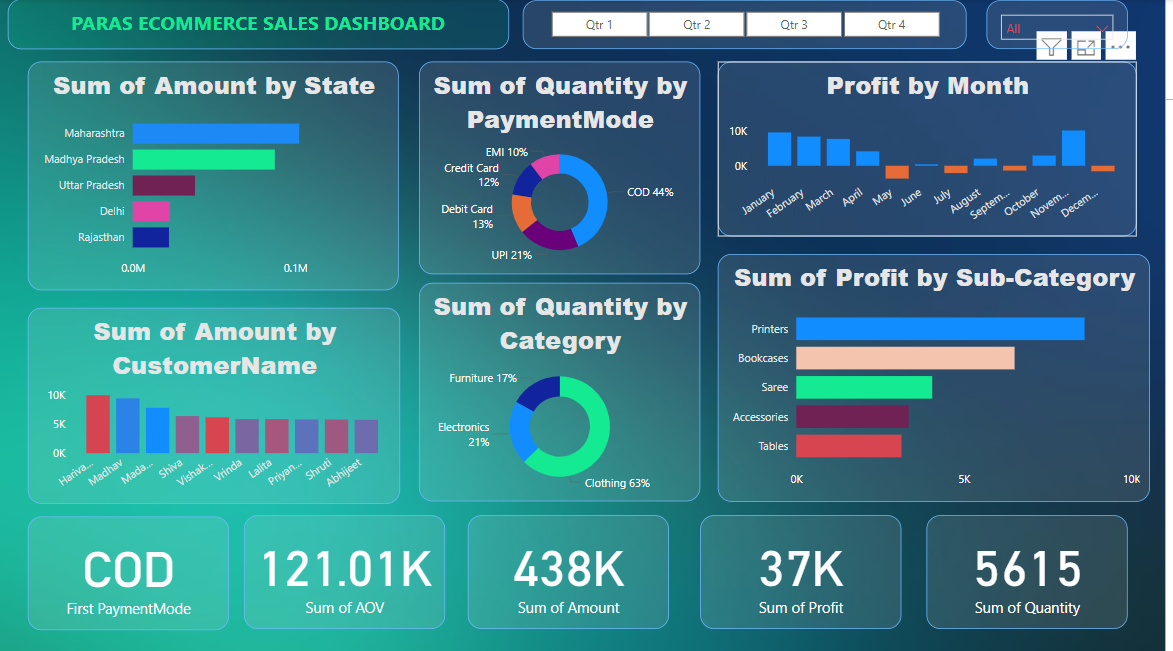

The page's visual inventory and layout, read from the dashboard file:
{"tool":"powerbi","page":{"name":"Page 1","canvas":[1280,720],"ordinal":0},"visuals":[{"type":"textbox","box":[9.6,0,550.3,54.9],"z":0},{"type":"columnChart","title":"Profit by Month","fields":{"Y":["Details.Profit"],"Category":["Orders.Order Date.Variation.Date Hierarchy.Month"]},"box":[789,68.6,459.7,192.1],"z":1000},{"type":"barChart","fields":{"Category":["Details.Sub-Category"],"Y":["Details.Profit"]},"box":[789,279.9,474.8,271.7],"z":2000},{"type":"donutChart","fields":{"Category":["Details.Category"],"Y":["Details.Quantity"]},"box":[461.1,311.5,308.7,240.1],"z":3000},{"type":"donutChart","fields":{"Category":["Details.PaymentMode"],"Y":["Details.Quantity"]},"box":[461.1,68.6,308.7,233.3],"z":4000},{"type":"card","fields":{"Values":["Details.Amount"]},"box":[514.6,566.7,220.9,124.9],"z":5000},{"type":"card","fields":{"Values":["Details.Profit"]},"box":[769.8,566.7,220.9,124.9],"z":6000},{"type":"card","fields":{"Values":["Details.Quantity"]},"box":[1018.2,566.7,220.9,124.9],"z":7000},{"type":"card","fields":{"Values":["Details.AOV"]},"box":[269,566.7,220.9,124.9],"z":8000},{"type":"barChart","fields":{"Y":["Details.Amount"],"Category":["Orders.State"]},"box":[31.6,68.6,407.5,251.1],"z":9000},{"type":"columnChart","fields":{"Category":["Orders.CustomerName"],"Y":["Details.Amount"]},"box":[31.6,338.9,408.9,215.4],"z":10000},{"type":"card","fields":{"Values":["Details.PaymentMode"]},"box":[31.6,568.1,220.9,124.9],"z":11000},{"type":"slicer","fields":{"Values":["Orders.Order Date.Variation.Date Hierarchy.Quarter"]},"box":[575,1.4,487.1,53.5],"z":12000},{"type":"slicer","fields":{"Values":["Orders.State"]},"box":[1084.1,1.4,155.1,53.5],"z":13000}]}

Visuals, with their boxes in screenshot pixels (x1, y1, x2, y2), scaled from the page's 1280x720 canvas onto the 1173x651 screenshot:
textbox: [9,0,513,50]
"Profit by Month" columnChart: [723,62,1144,236]
barChart - Details.Sub-Category x Details.Profit: [723,253,1158,499]
donutChart - Details.Category x Details.Quantity: [423,282,705,499]
donutChart - Details.PaymentMode x Details.Quantity: [423,62,705,273]
card - Details.Amount: [472,512,674,625]
card - Details.Profit: [705,512,908,625]
card - Details.Quantity: [933,512,1136,625]
card - Details.AOV: [247,512,449,625]
barChart - Details.Amount x Orders.State: [29,62,402,289]
columnChart - Orders.CustomerName x Details.Amount: [29,306,404,501]
card - Details.PaymentMode: [29,514,231,627]
slicer - Orders.Order Date.Variation.Date Hierarchy.Quarter: [527,1,973,50]
slicer - Orders.State: [993,1,1136,50]
